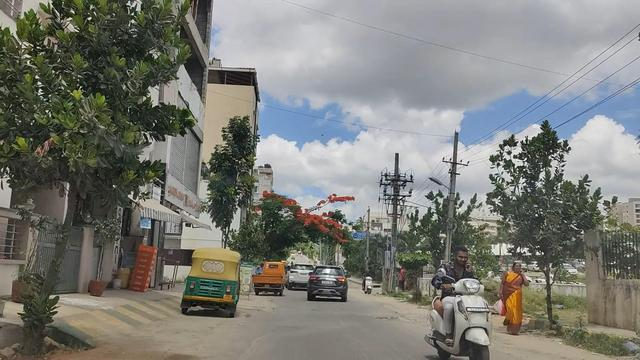RoadDamages: (223, 325, 284, 358), (362, 305, 420, 331), (247, 299, 303, 323)
